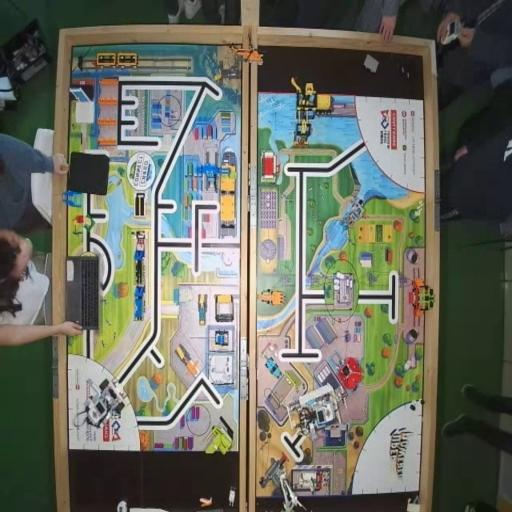lego_robot: (286, 382, 348, 442), (84, 378, 126, 432)
